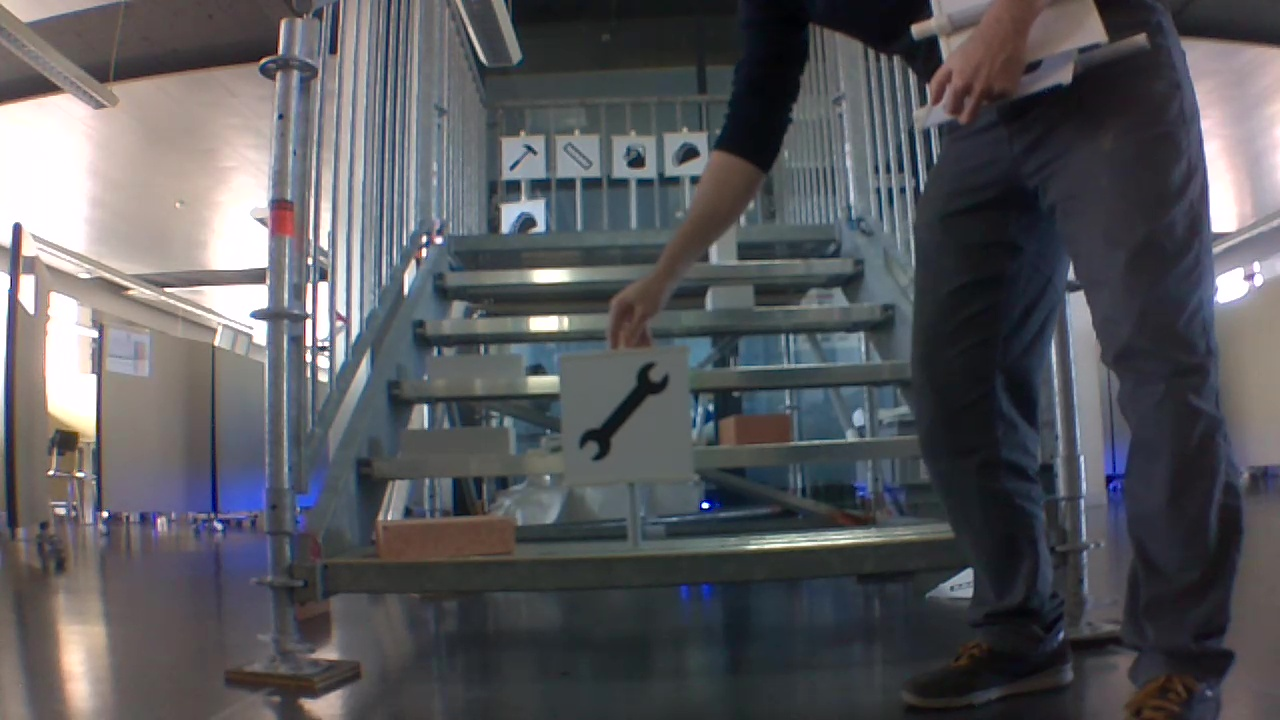brick: (369, 515, 519, 558), (399, 422, 516, 459), (427, 350, 531, 381), (719, 414, 792, 449), (703, 282, 756, 309), (711, 221, 740, 262)
bucket: (622, 142, 649, 173)
edge: (322, 532, 958, 601)
hammer: (508, 140, 539, 175)
ruler: (561, 141, 593, 170)
taco: (670, 141, 703, 170), (508, 208, 540, 233)
wrench: (579, 360, 671, 462)
